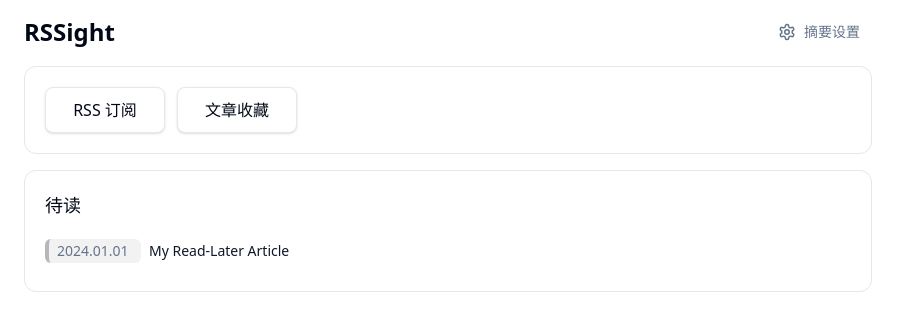
Scenario: Routing and page structure › S065: read-later end-to-end flows › S064: navigation from read-later to summary and read-later state › S064: clicking read-later title opens summary page with read-later button in red minus-state
Check: the heading "待读" is shown, box x1=45 y1=193 x2=81 y2=217
Click the link "My Read-Later Article": [219, 250] box x1=149 y1=241 x2=289 y2=260
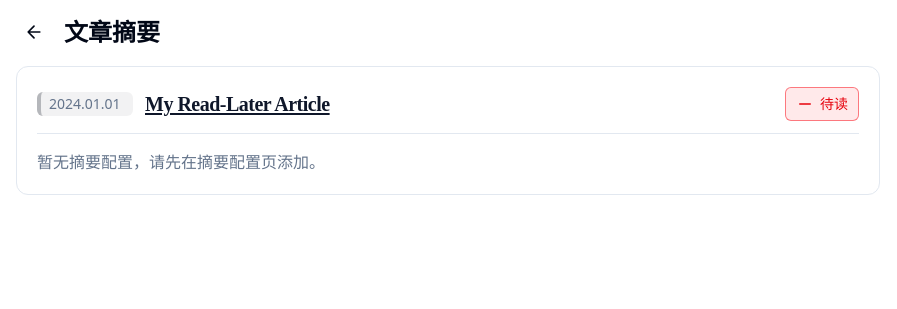
Check: the button with aria-label "从待读移除" is shown, box x1=785 y1=87 x2=859 y2=121
Check: the heading "文章摘要" is shown, box x1=64 y1=16 x2=160 y2=48
